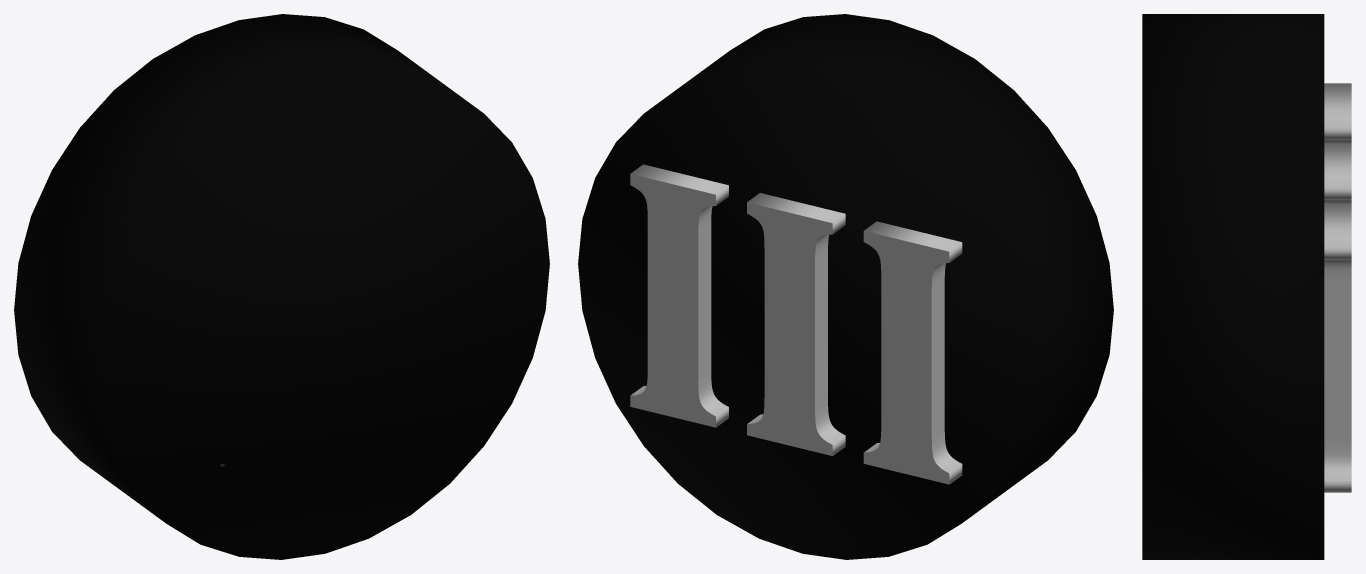
The model's file is stage3.obj.
3 renders of one model, left to right at view 1: azimuth 30°, elevation 25°; view 2: azimuth 150°, elevation 25°; view 3: azimuth 270°, elevation 25°, orthographic. The views are drawn at different scales.
Visible parts, largest first — view 1: 円柱.002; view 2: 円柱.002; view 3: 円柱.002.
Part boxes in pixels (x1=…): 円柱.002: x1=14, y1=14, x2=549, y2=559; 円柱.002: x1=578, y1=14, x2=1113, y2=559; 円柱.002: x1=1142, y1=14, x2=1351, y2=559.
Size of the model in its own units: 6 by 6 by 2.3.
Materials: 1 (1 with a texture image).
